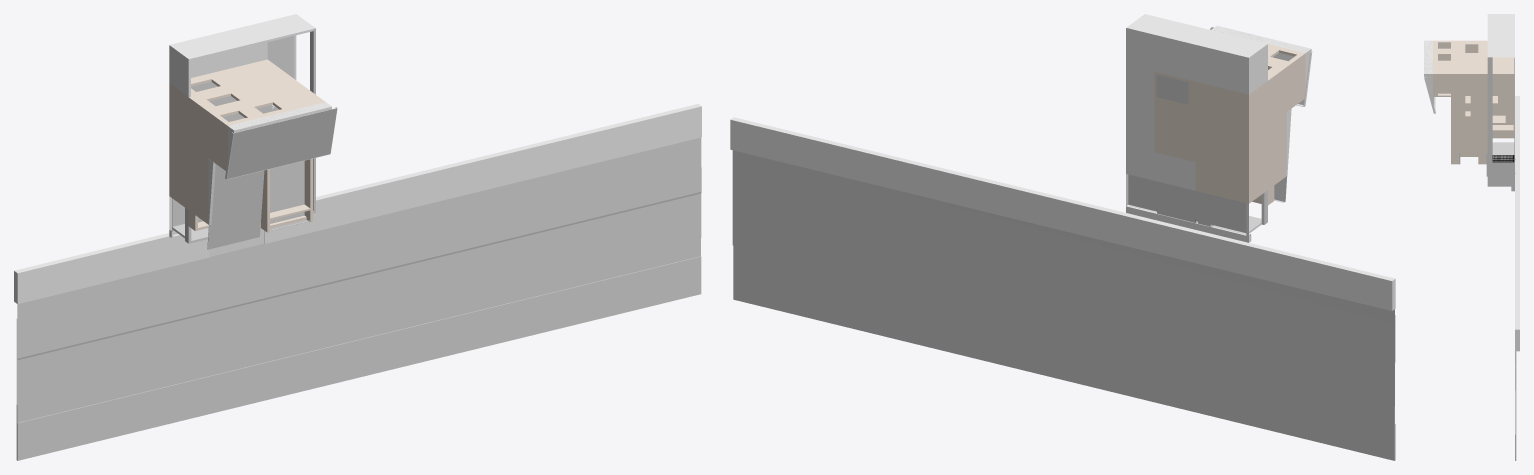
Rendered from asset.glb.
3 renders of one model, left to right at view 1: azimuth 30°, elevation 25°; view 2: azimuth 150°, elevation 25°; view 3: azimuth 270°, elevation 25°, orthographic. The views are drawn at different scales.
Parts seen in each view (by area): view 1: road_1, Mesh (×3), SketchUp, group_25, group_26, group_24; view 2: road_1, SketchUp, group_0, group_25, Mesh, group_26; view 3: SketchUp, group_25, group_26, Mesh, road_1, group_22, group_24, group_0.
Part boxes in pixels (box(x1,y1,x2,y2)): road_1: box(14, 104, 701, 460); Mesh (×3): box(170, 60, 336, 249); SketchUp: box(169, 14, 337, 249); group_25: box(189, 74, 305, 230); group_26: box(209, 88, 325, 232); group_24: box(208, 88, 306, 228); road_1: box(730, 117, 1395, 460); SketchUp: box(1126, 14, 1312, 242); group_0: box(1154, 71, 1249, 203); group_25: box(1268, 62, 1286, 204); Mesh: box(1250, 81, 1267, 202); group_26: box(1268, 44, 1305, 110); SketchUp: box(1424, 14, 1514, 191); group_25: box(1460, 40, 1486, 164); group_26: box(1433, 40, 1458, 164); Mesh: box(1492, 57, 1513, 138); road_1: box(1515, 96, 1519, 460); group_22: box(1486, 40, 1487, 164); group_24: box(1459, 40, 1460, 164); group_0: box(1513, 57, 1514, 137).
Size of the model in its own units: 2548 by 1349 by 441.
